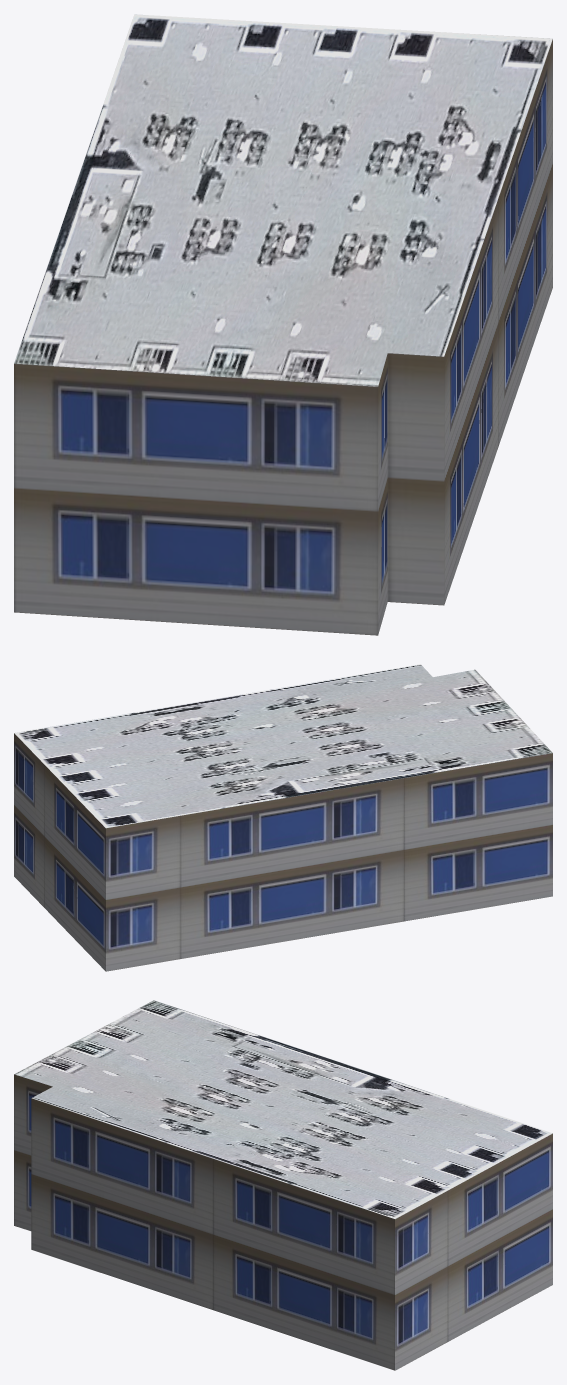
Rendered from ResTex__140.fbx.
The picture shows the model from 3 angles, top to bottom: view 1: azimuth 30°, elevation 25°; view 2: azimuth 150°, elevation 25°; view 3: azimuth 270°, elevation 25°; orthographic projection. The views are drawn at different scales.
Parts seen in each view (by area): view 1: CityEngineMaterial_4_m, CityEngineMaterial_23_m; view 2: CityEngineMaterial_23_m, CityEngineMaterial_4_m; view 3: CityEngineMaterial_23_m, CityEngineMaterial_4_m.
Boxes of the visible parts, <box> form: CityEngineMaterial_4_m: <box>14,14,552,386</box>; CityEngineMaterial_23_m: <box>14,39,552,635</box>; CityEngineMaterial_23_m: <box>14,733,552,971</box>; CityEngineMaterial_4_m: <box>14,664,552,828</box>; CityEngineMaterial_23_m: <box>14,1074,552,1370</box>; CityEngineMaterial_4_m: <box>14,1000,552,1218</box>.
Bounding box in the file's own units: 18.6 × 6 × 19.34.
Materials: 2 (2 with a texture image).
